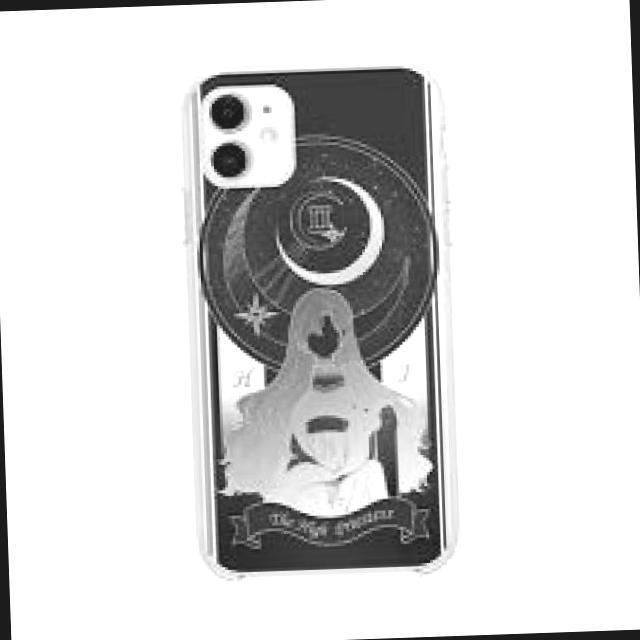lens: (194, 85, 298, 188)
phone: (176, 56, 464, 592)
